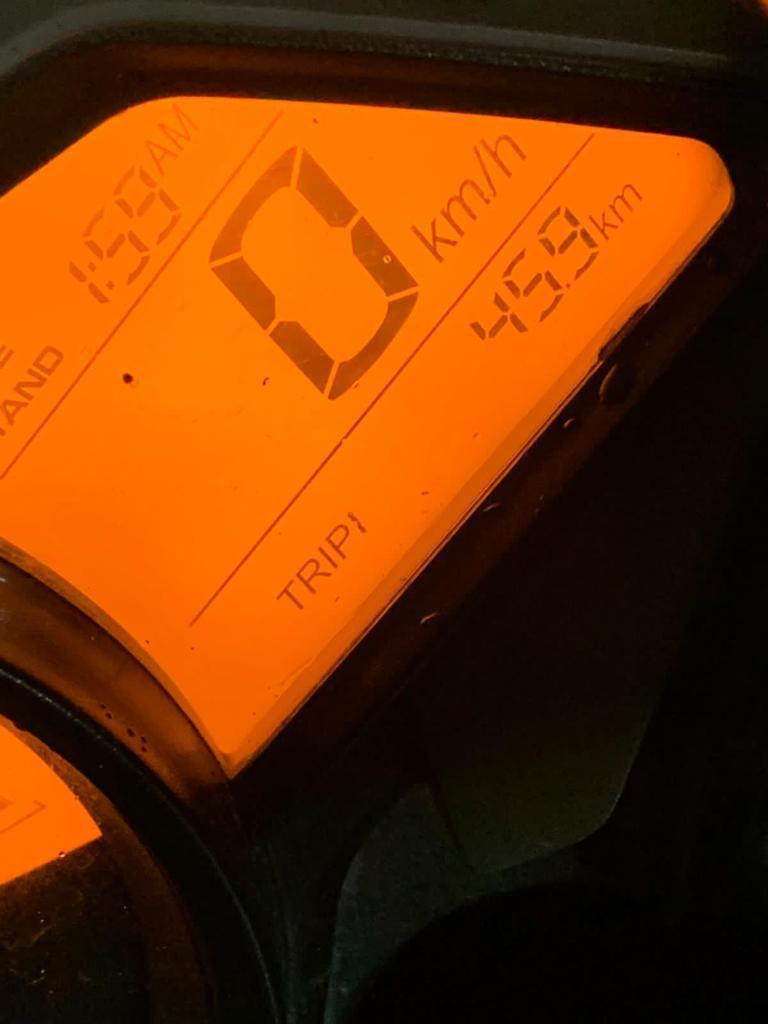,: (563, 279, 573, 292)
0: (208, 145, 418, 402)
1: (65, 260, 110, 305), (346, 511, 367, 534)
4: (468, 290, 526, 344)
5: (80, 207, 149, 286), (500, 248, 562, 322)
9: (111, 163, 180, 244), (535, 206, 598, 279)
X: (439, 177, 487, 238), (479, 130, 525, 177), (410, 218, 456, 263), (158, 102, 196, 150), (608, 183, 642, 221), (296, 558, 331, 594), (473, 144, 496, 197), (144, 138, 176, 176), (13, 368, 46, 400), (587, 210, 618, 241), (86, 259, 116, 291), (32, 345, 62, 376), (275, 579, 303, 610), (325, 524, 348, 559), (1, 399, 27, 423), (317, 546, 338, 567)
odometer: (0, 80, 745, 794)
